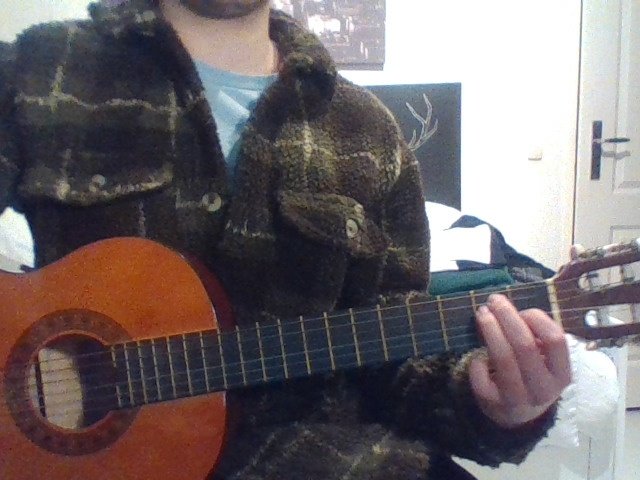E: (449, 271, 611, 447)
